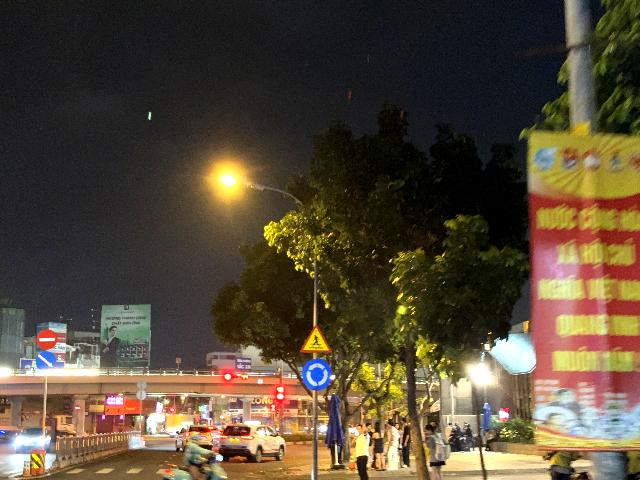cam-di-nguoc-chieu: (37, 328, 59, 350)
duong-nguoi-di-bo-cat-ngang: (300, 323, 331, 354)
huong-phai-di-vong-chuong-ngai-vat: (36, 351, 56, 371)
noi-giao-nhau-chay-theo-vong-xuyen: (302, 359, 331, 391)
